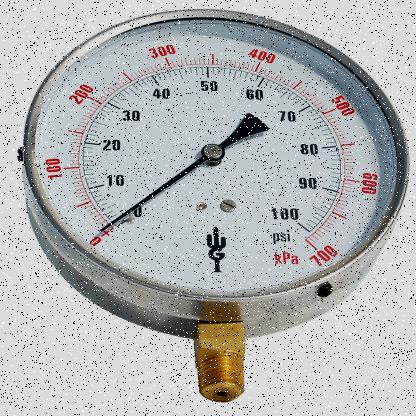needle: (98, 156, 208, 234)
